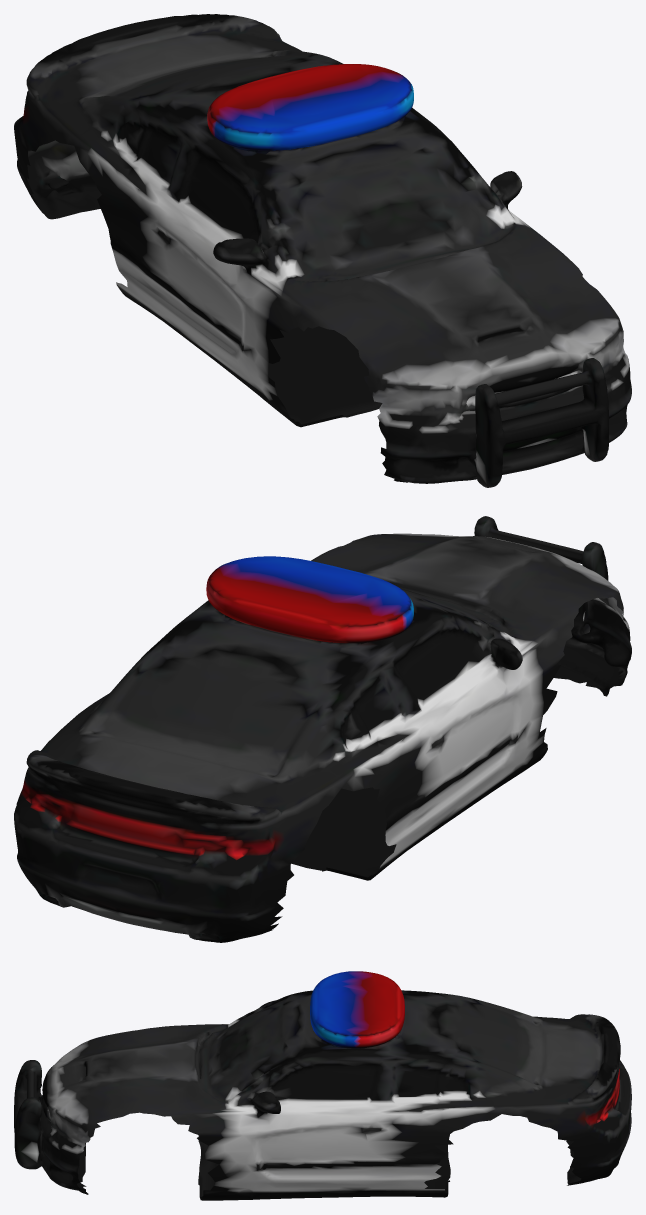
File: police_car.glb
3 views of the same model, one above another, from view 1: azimuth 30°, elevation 25°; view 2: azimuth 150°, elevation 25°; view 3: azimuth 270°, elevation 25° (orthographic). The views are drawn at different scales.
Visible parts, largest first — view 1: geometry_0; view 2: geometry_0; view 3: geometry_0.
Part boxes in pixels (x1=…): geometry_0: x1=14, y1=14, x2=631, y2=487; geometry_0: x1=14, y1=516, x2=631, y2=942; geometry_0: x1=14, y1=971, x2=631, y2=1200.
Size of the model in its own units: 1.94 by 1.35 by 4.8.
